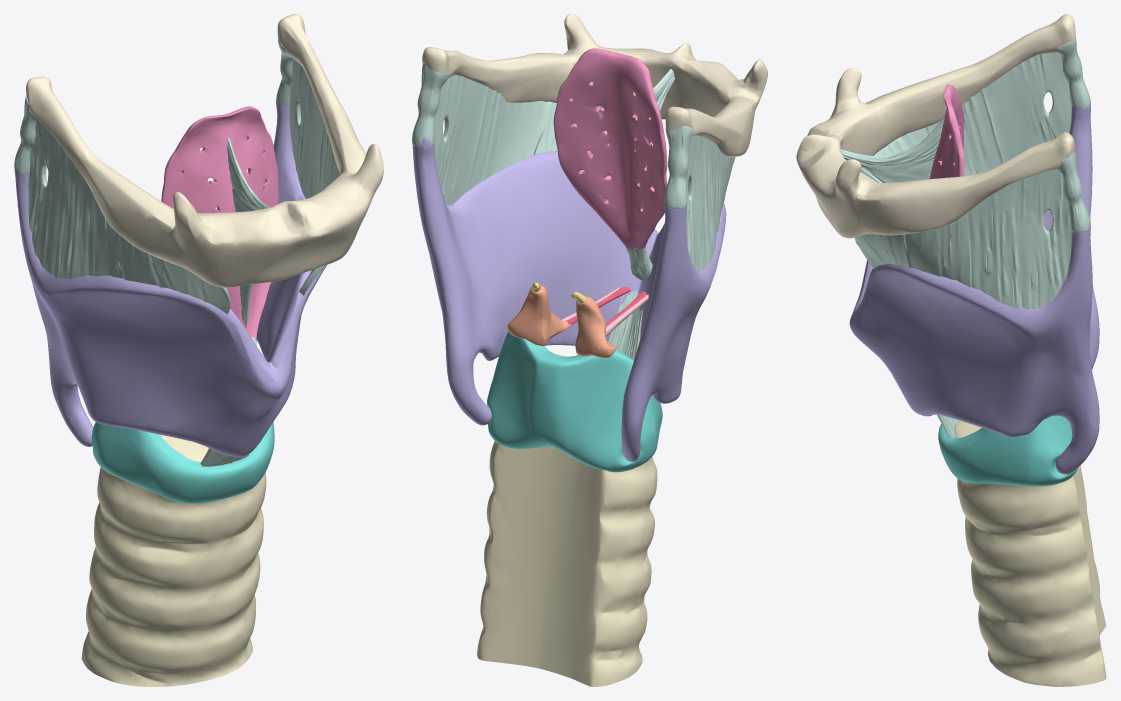
Rendered from larynx-styled.glb.
3 views of the same model, side by side, from view 1: azimuth 30°, elevation 25°; view 2: azimuth 150°, elevation 25°; view 3: azimuth 270°, elevation 25° (orthographic). The views are drawn at different scales.
Parts seen in each view (by area): view 1: Cartilage_Thyroid, Trachea, Bone_Hyoid, Membrane_Thyrohyoid_R, Cartilage_Epiglottis, Cartilage_Cricoid, Membrane_Thyrohyoid_L, Ligament_Hyoepiglottic, Ligament_Thyrohyoid_R, Ligament_Thyrohyoid_L; view 2: Cartilage_Thyroid, Trachea, Cartilage_Epiglottis, Cartilage_Cricoid, Bone_Hyoid, Membrane_Thyrohyoid_L, Membrane_Thyrohyoid_R, Cartilage_Arytenoid_L, Ligament_Thyrohyoid_R, Cartilage_Arytenoid_R, Ligament_Thyrohyoid_L, Ligament_Cricothyroid_Median (+1 smaller); view 3: Cartilage_Thyroid, Trachea, Bone_Hyoid, Membrane_Thyrohyoid_L, Membrane_Thyrohyoid_R, Cartilage_Cricoid, Ligament_Hyoepiglottic, Cartilage_Epiglottis, Ligament_Thyrohyoid_L, Ligament_Thyrohyoid_R.
Boxes of the visible parts, <box> form: Cartilage_Thyroid: <box>14,100,326,456</box>; Trachea: <box>81,434,266,686</box>; Bone_Hyoid: <box>26,14,383,287</box>; Membrane_Thyrohyoid_R: <box>17,119,230,313</box>; Cartilage_Epiglottis: <box>161,106,278,342</box>; Cartilage_Cricoid: <box>91,422,274,503</box>; Membrane_Thyrohyoid_L: <box>289,59,339,295</box>; Ligament_Hyoepiglottic: <box>227,138,270,327</box>; Ligament_Thyrohyoid_R: <box>14,95,37,174</box>; Ligament_Thyrohyoid_L: <box>276,39,292,106</box>; Cartilage_Thyroid: <box>412,137,726,461</box>; Trachea: <box>477,441,657,686</box>; Cartilage_Epiglottis: <box>553,48,667,249</box>; Cartilage_Cricoid: <box>487,332,662,472</box>; Bone_Hyoid: <box>422,14,767,157</box>; Membrane_Thyrohyoid_L: <box>434,75,574,205</box>; Membrane_Thyrohyoid_R: <box>681,136,735,271</box>; Cartilage_Arytenoid_L: <box>507,285,571,346</box>; Ligament_Thyrohyoid_R: <box>664,126,692,209</box>; Cartilage_Arytenoid_R: <box>575,296,615,357</box>; Ligament_Thyrohyoid_L: <box>412,64,449,146</box>; Ligament_Cricothyroid_Median: <box>608,290,643,359</box>; Cartilage_Thyroid: <box>849,102,1099,474</box>; Trachea: <box>954,420,1106,686</box>; Bone_Hyoid: <box>796,14,1075,238</box>; Membrane_Thyrohyoid_L: <box>854,169,1071,309</box>; Membrane_Thyrohyoid_R: <box>874,52,1071,175</box>; Cartilage_Cricoid: <box>938,415,1077,486</box>; Ligament_Hyoepiglottic: <box>841,118,944,182</box>; Cartilage_Epiglottis: <box>929,84,964,178</box>; Ligament_Thyrohyoid_L: <box>1057,150,1090,233</box>; Ligament_Thyrohyoid_R: <box>1055,39,1090,108</box>.
Bounding box in the file's own units: 38.61 × 78.48 × 38.31.
